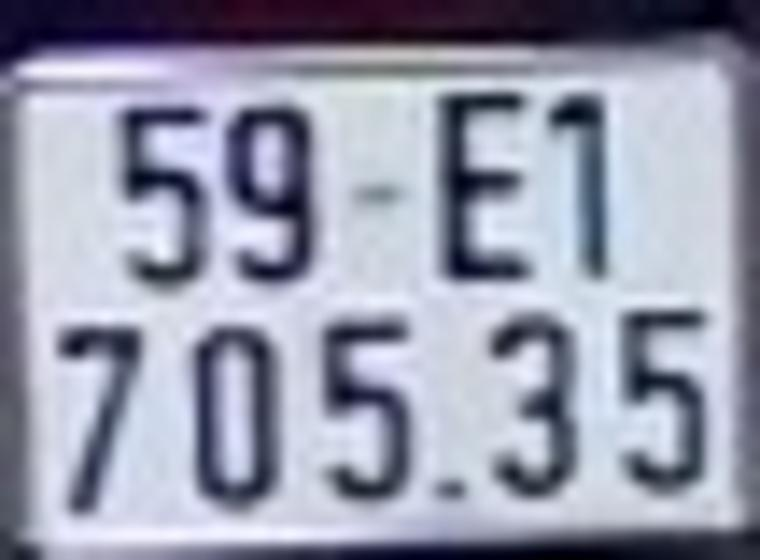-: (351, 183, 396, 203)
.: (438, 479, 461, 499)
0: (191, 329, 272, 504)
1: (551, 92, 613, 282)
3: (487, 313, 578, 500)
5: (119, 107, 212, 282), (323, 321, 409, 501), (623, 306, 706, 490)
7: (51, 324, 141, 510)
9: (223, 108, 315, 279)
E: (433, 92, 529, 280)
